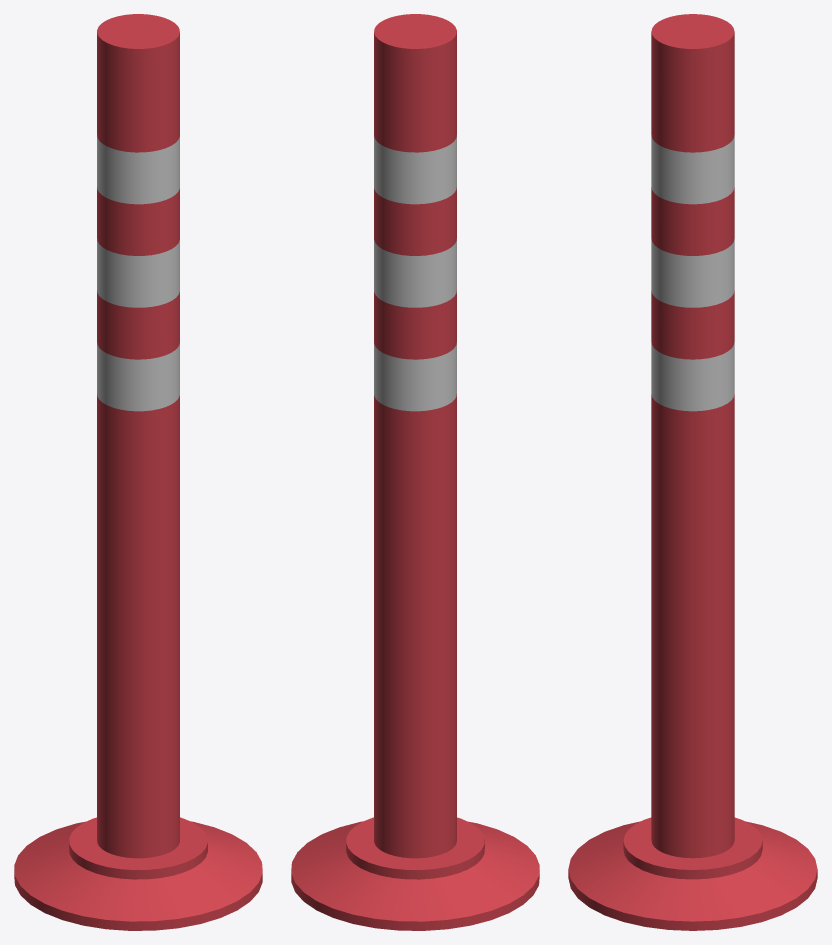
File: Guidepost.fbx
3 views of the same model, side by side, from view 1: azimuth 30°, elevation 25°; view 2: azimuth 150°, elevation 25°; view 3: azimuth 270°, elevation 25° (orthographic).
Visible parts, largest first — view 1: Guidepost; view 2: Guidepost; view 3: Guidepost.
Boxes of the visible parts, x1,y1,x2,y2 form: Guidepost: [14, 14, 262, 930]; Guidepost: [291, 14, 539, 930]; Guidepost: [568, 14, 817, 930].
Size of the model in its own units: 12 by 45 by 12.
